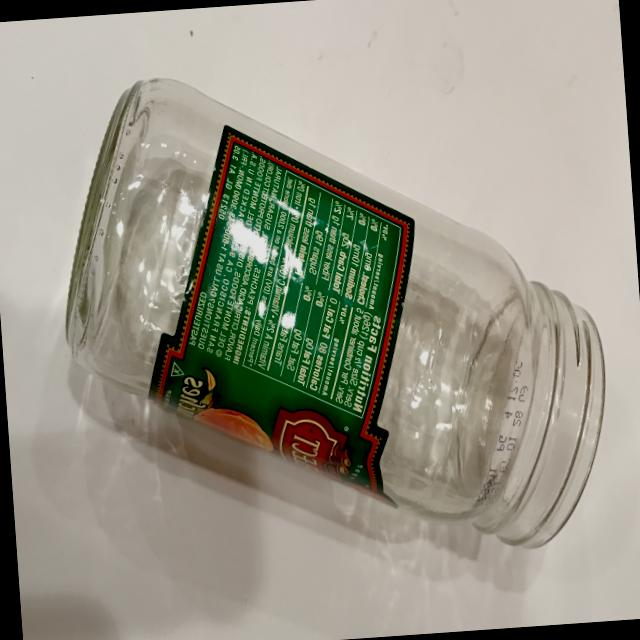Glass: (43, 34, 630, 593)
